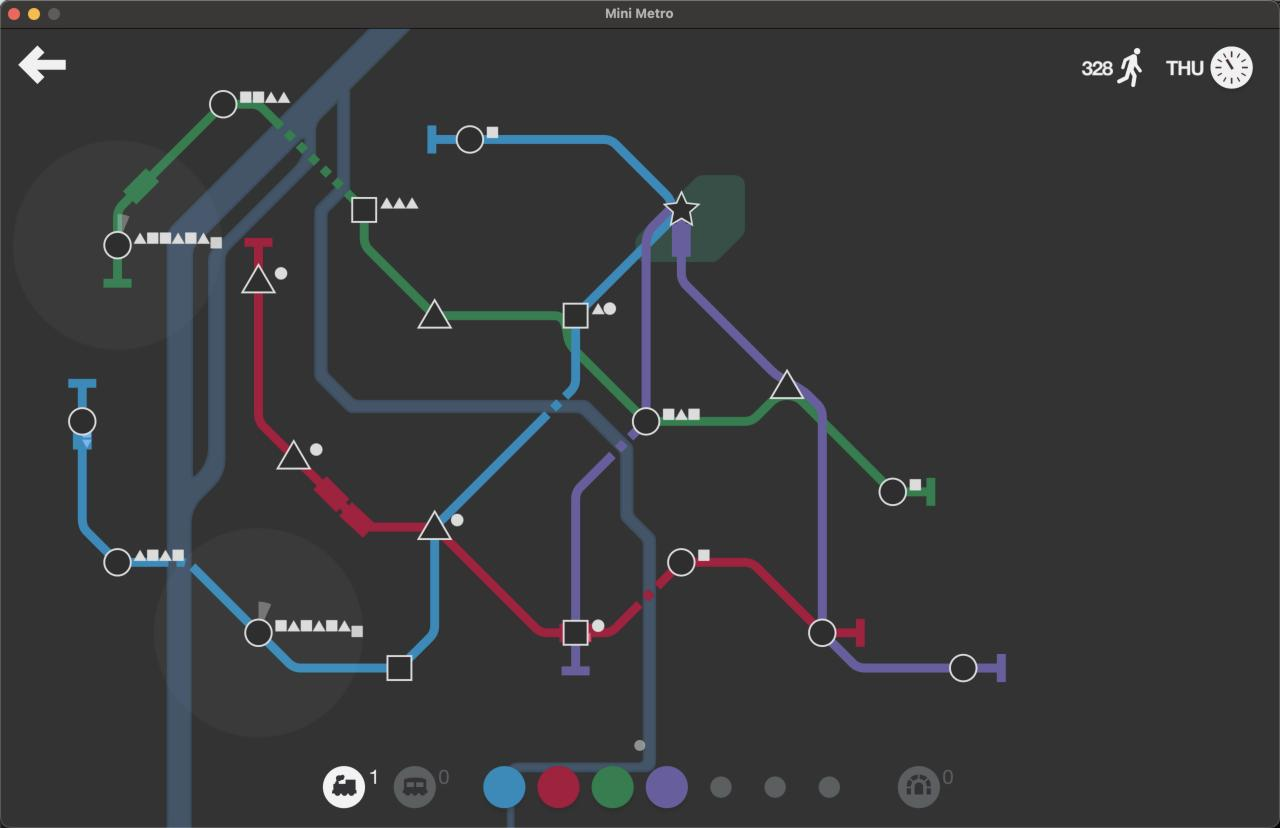CIRCLE: (67, 406, 98, 439), (455, 124, 485, 155), (631, 406, 661, 436), (208, 89, 238, 119), (666, 547, 696, 577), (103, 230, 133, 260), (878, 476, 907, 507), (244, 617, 273, 648), (808, 618, 837, 648), (103, 547, 132, 577), (948, 653, 977, 682)
SQUARE: (561, 618, 590, 647), (350, 196, 378, 224), (562, 301, 590, 329), (385, 654, 413, 681)
STAR: (661, 190, 701, 228)
TRIANGLE: (416, 509, 454, 542), (416, 297, 453, 330), (276, 439, 313, 471), (768, 368, 804, 399), (241, 263, 277, 294)
